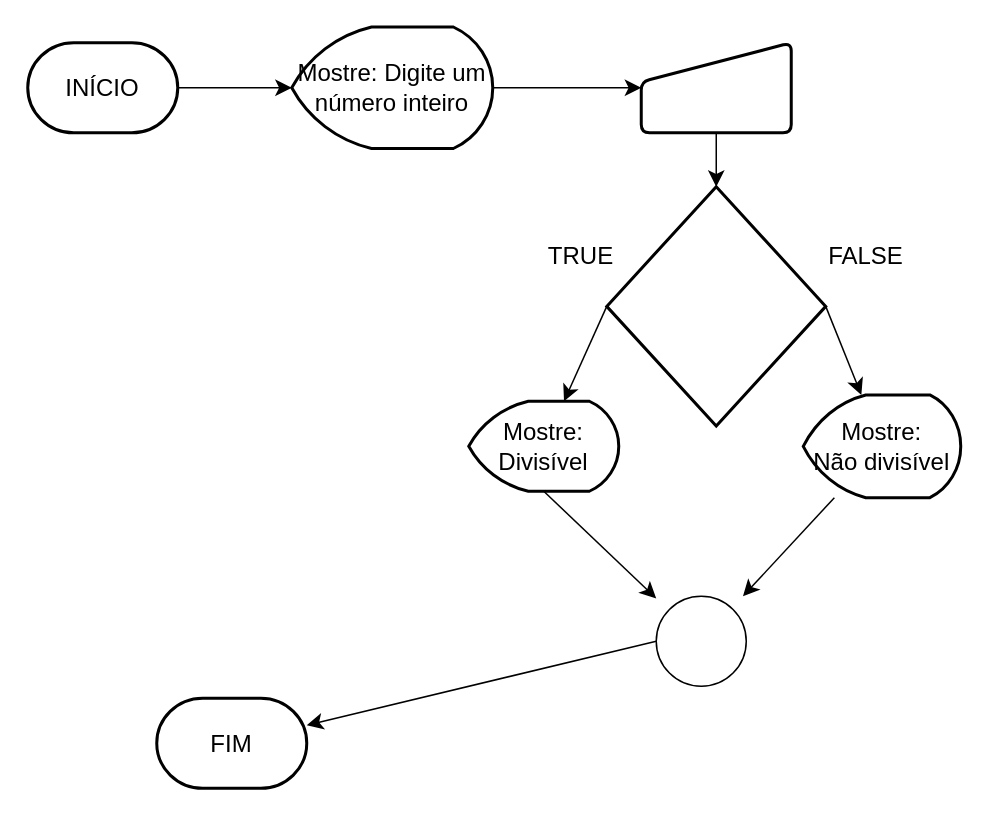
The diagram is 987 pixels wide and 816 high, and some of its shapes have lost their labels. Here are the shapes that lost their labels. From the top down, the centre of each, then its label:
At point 715,87: "Ler: Num".
At point 715,305: "Num % 3 == 0 || Num % 5 == 0".
